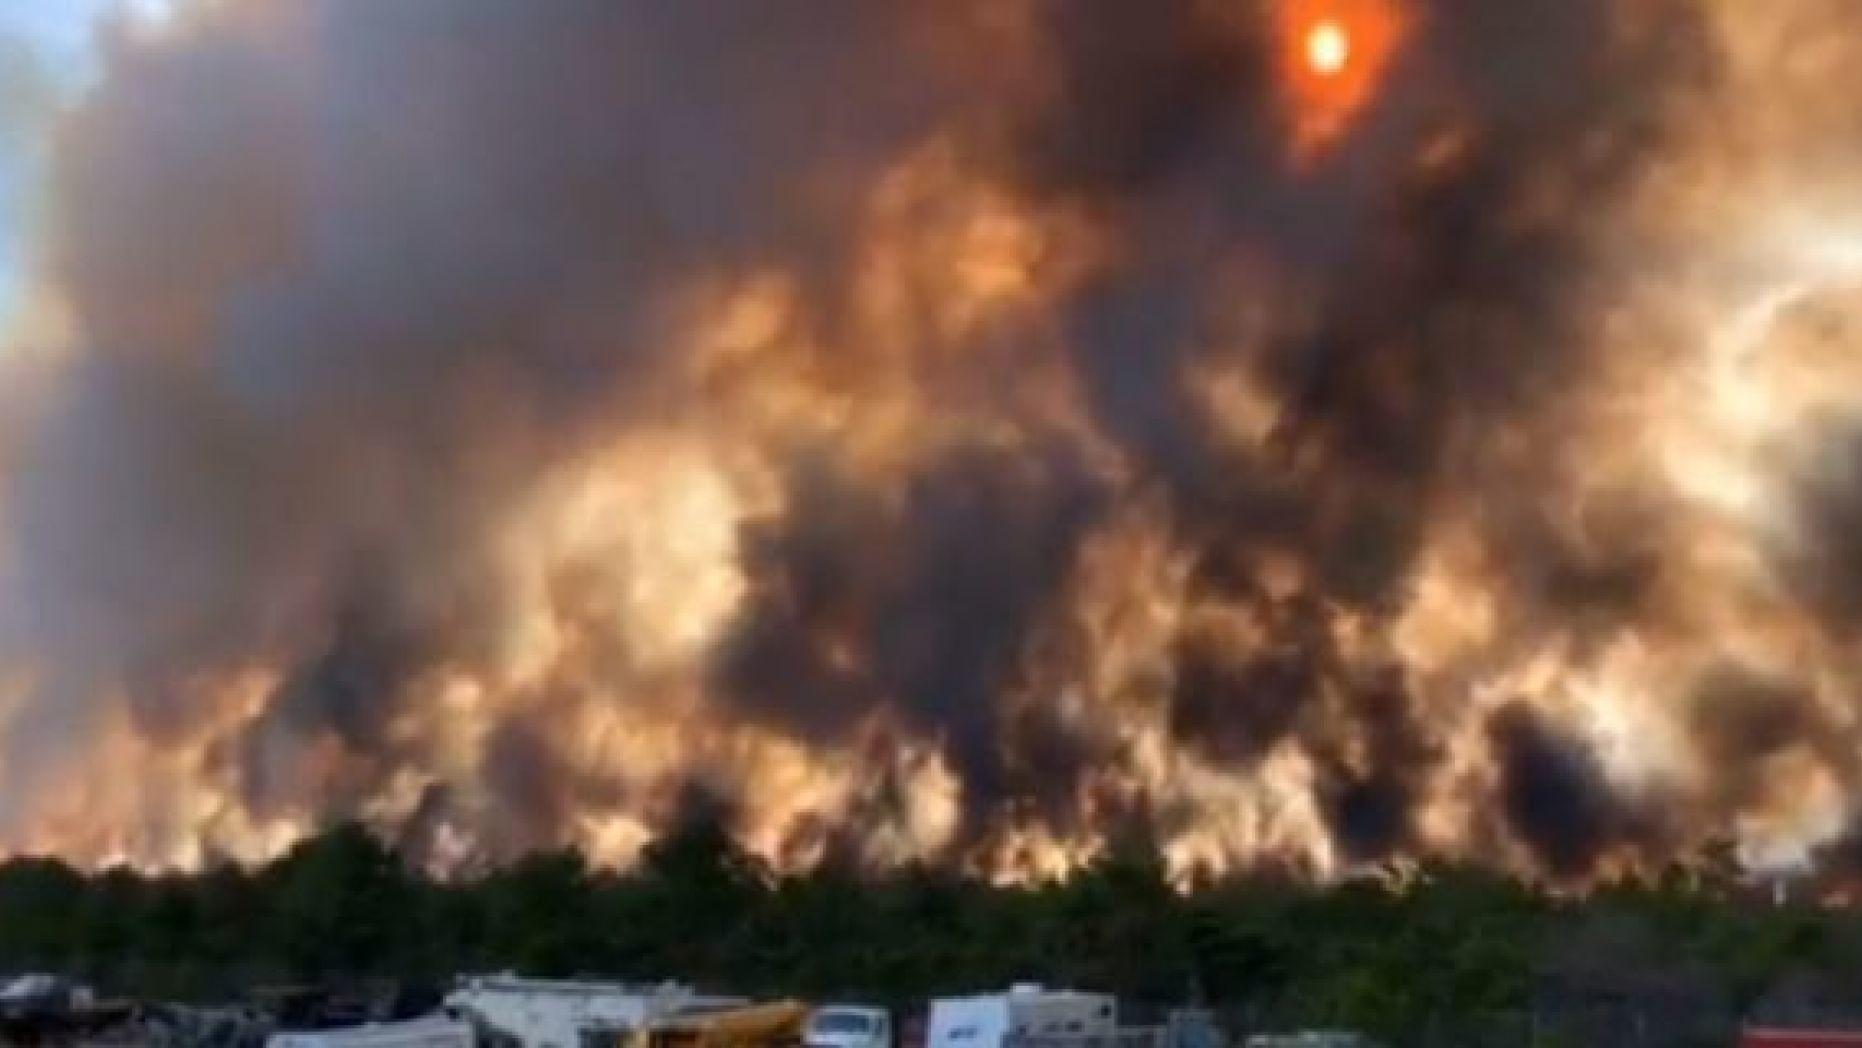smoke: (12, 35, 1836, 905)
